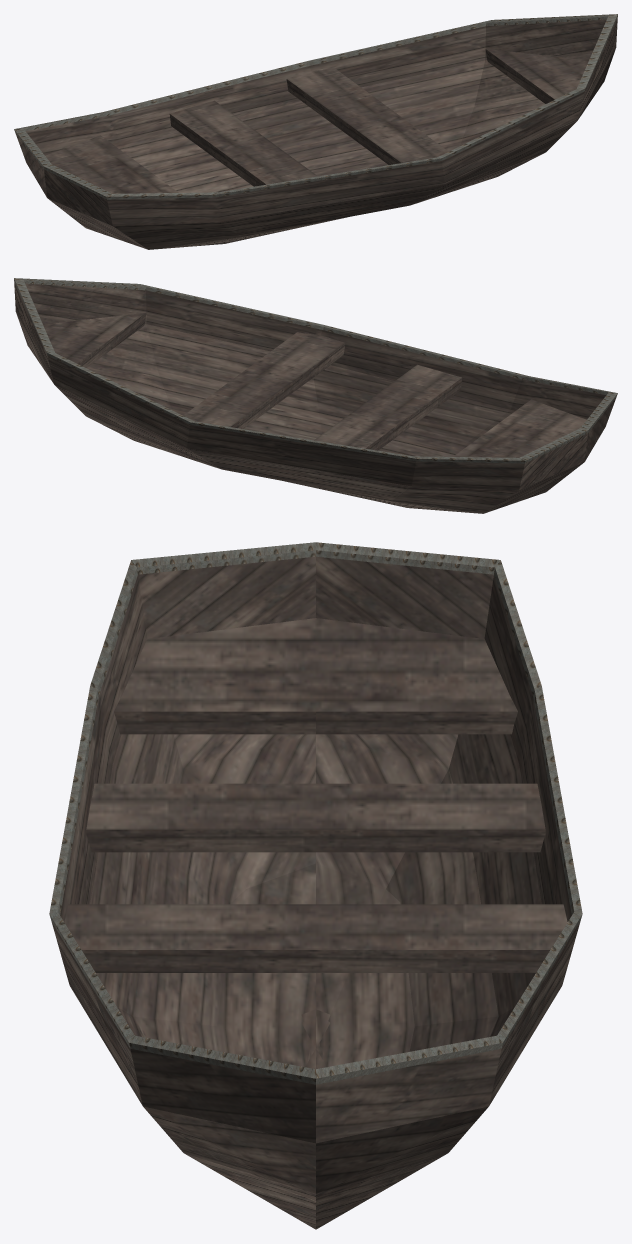
Rendered from Rowboat.glb.
The picture shows the model from 3 angles, top to bottom: view 1: azimuth 30°, elevation 25°; view 2: azimuth 150°, elevation 25°; view 3: azimuth 270°, elevation 25°; orthographic projection. The views are drawn at different scales.
Parts seen in each view (by area): view 1: Boat; view 2: Boat; view 3: Boat.
Part boxes in pixels (left/top/right/bottom): Boat: left=14, top=14, right=617, bottom=249; Boat: left=14, top=278, right=617, bottom=513; Boat: left=49, top=542, right=582, bottom=1229.
Size of the model in its own units: 3.05 by 0.6046 by 1.23.
Materials: 2 (2 with a texture image).
